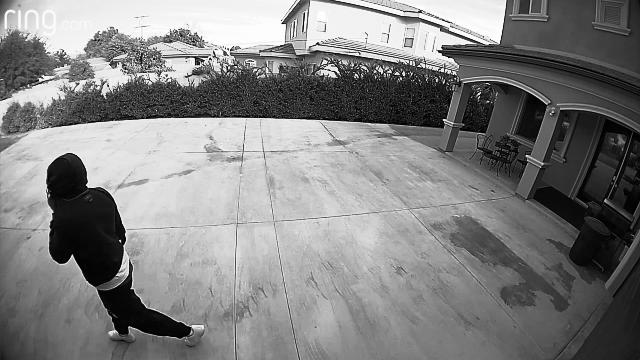berjalan: (42, 152, 204, 344)
